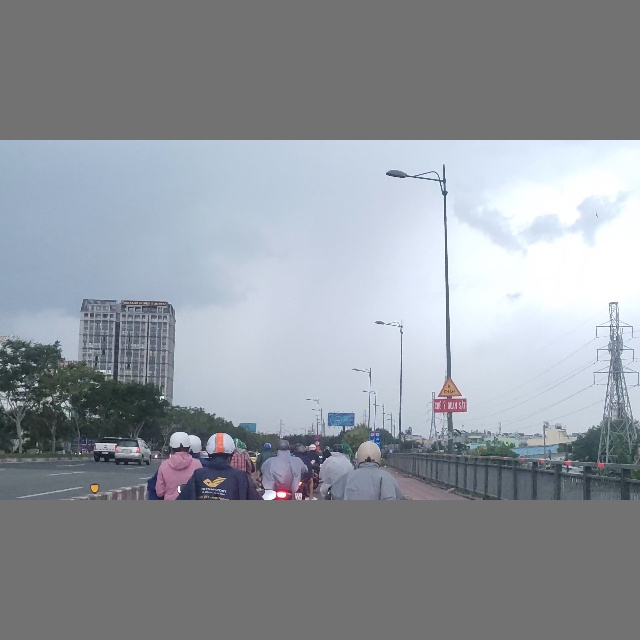W.245a: (437, 376, 463, 397)
